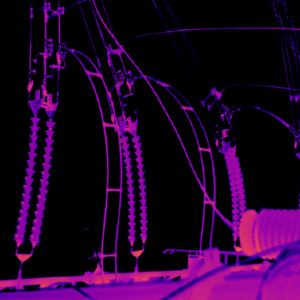insulator: (10, 115, 56, 248), (118, 131, 147, 247), (221, 146, 247, 241)
